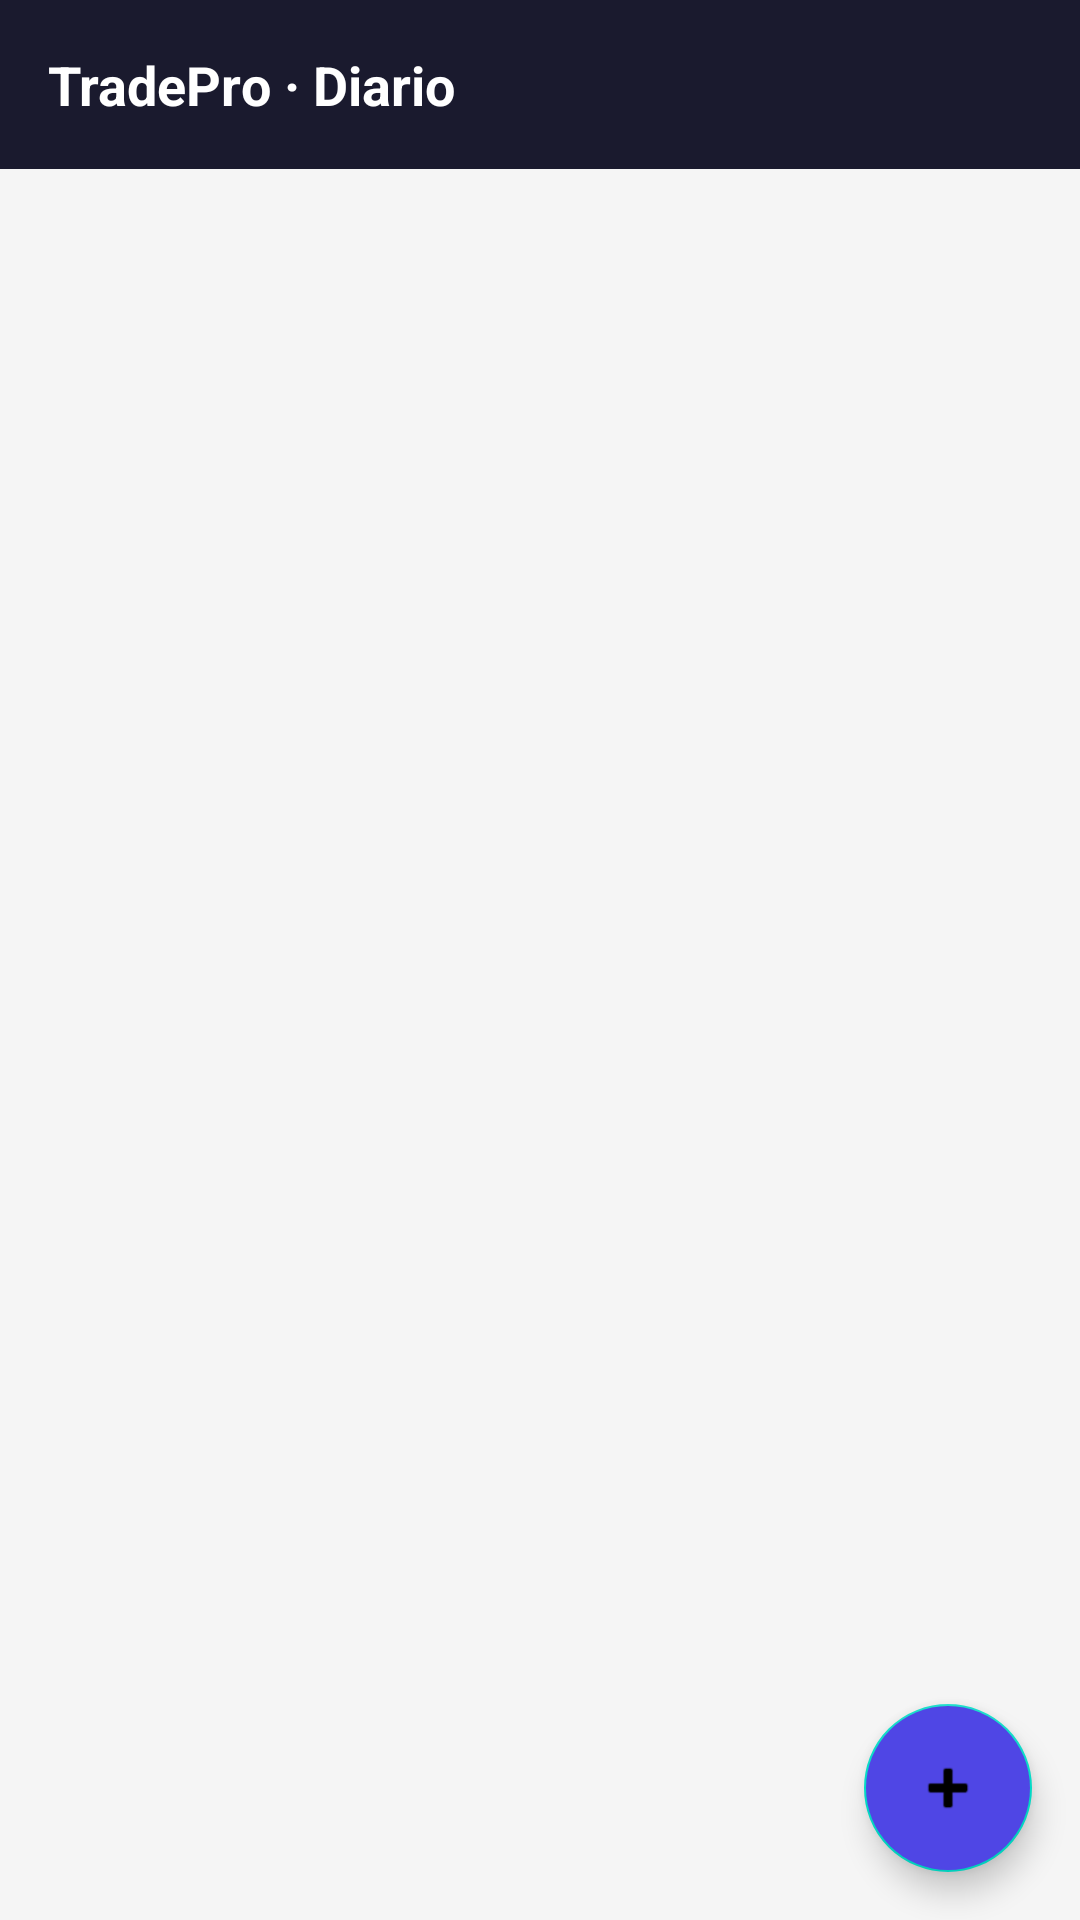

Icons on this 1080x1920 Android screen, each with its box as (x1, y1, x2, y2):
Add trade: (864, 1704, 1032, 1872)
